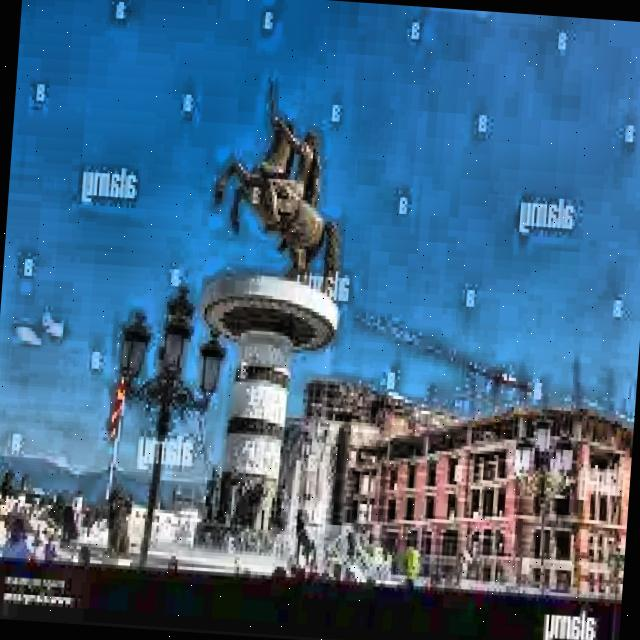alexander the great monument: (188, 79, 359, 548)
